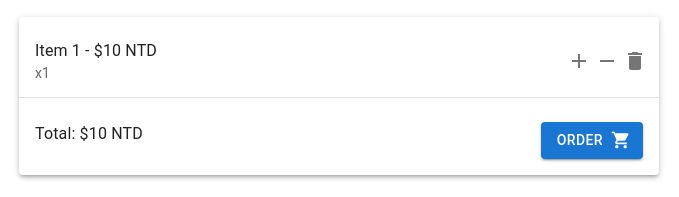
it: Test for CartPage › adds items to cart correctly
This screenshot has width=679, height=197.
Check: the text "Item 1 - $10 NTD" is shown, box [35,41,157,60]
Check: the text "x1" is shown, box [35,65,50,81]
Click the button named "add" at (579, 61), box [559,41,599,81]
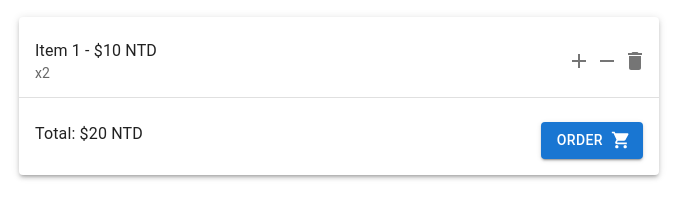
Check: the text "x2" is shown, box [35,65,50,81]
Click the button named "add" at (579, 61), box [559,41,599,81]
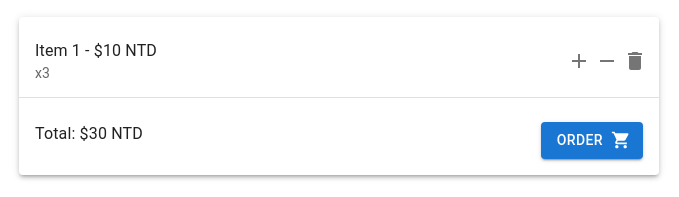
Check: the text "x3" is shown, box [35,65,50,81]
